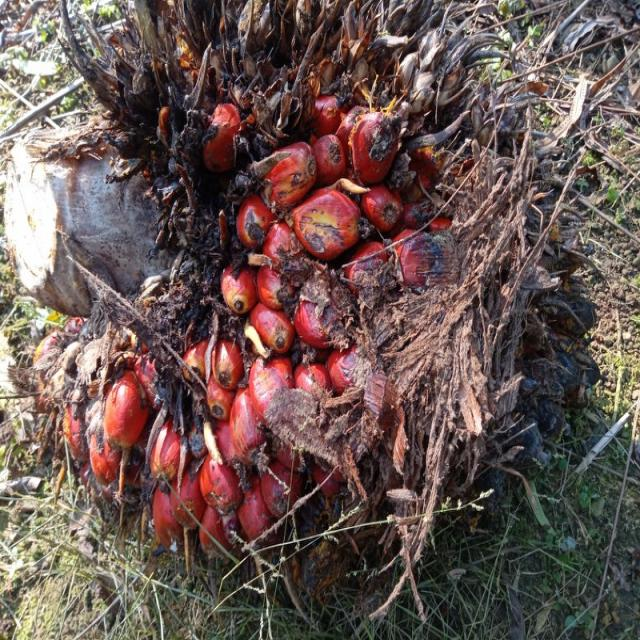fraksi 4: (25, 30, 601, 616)
